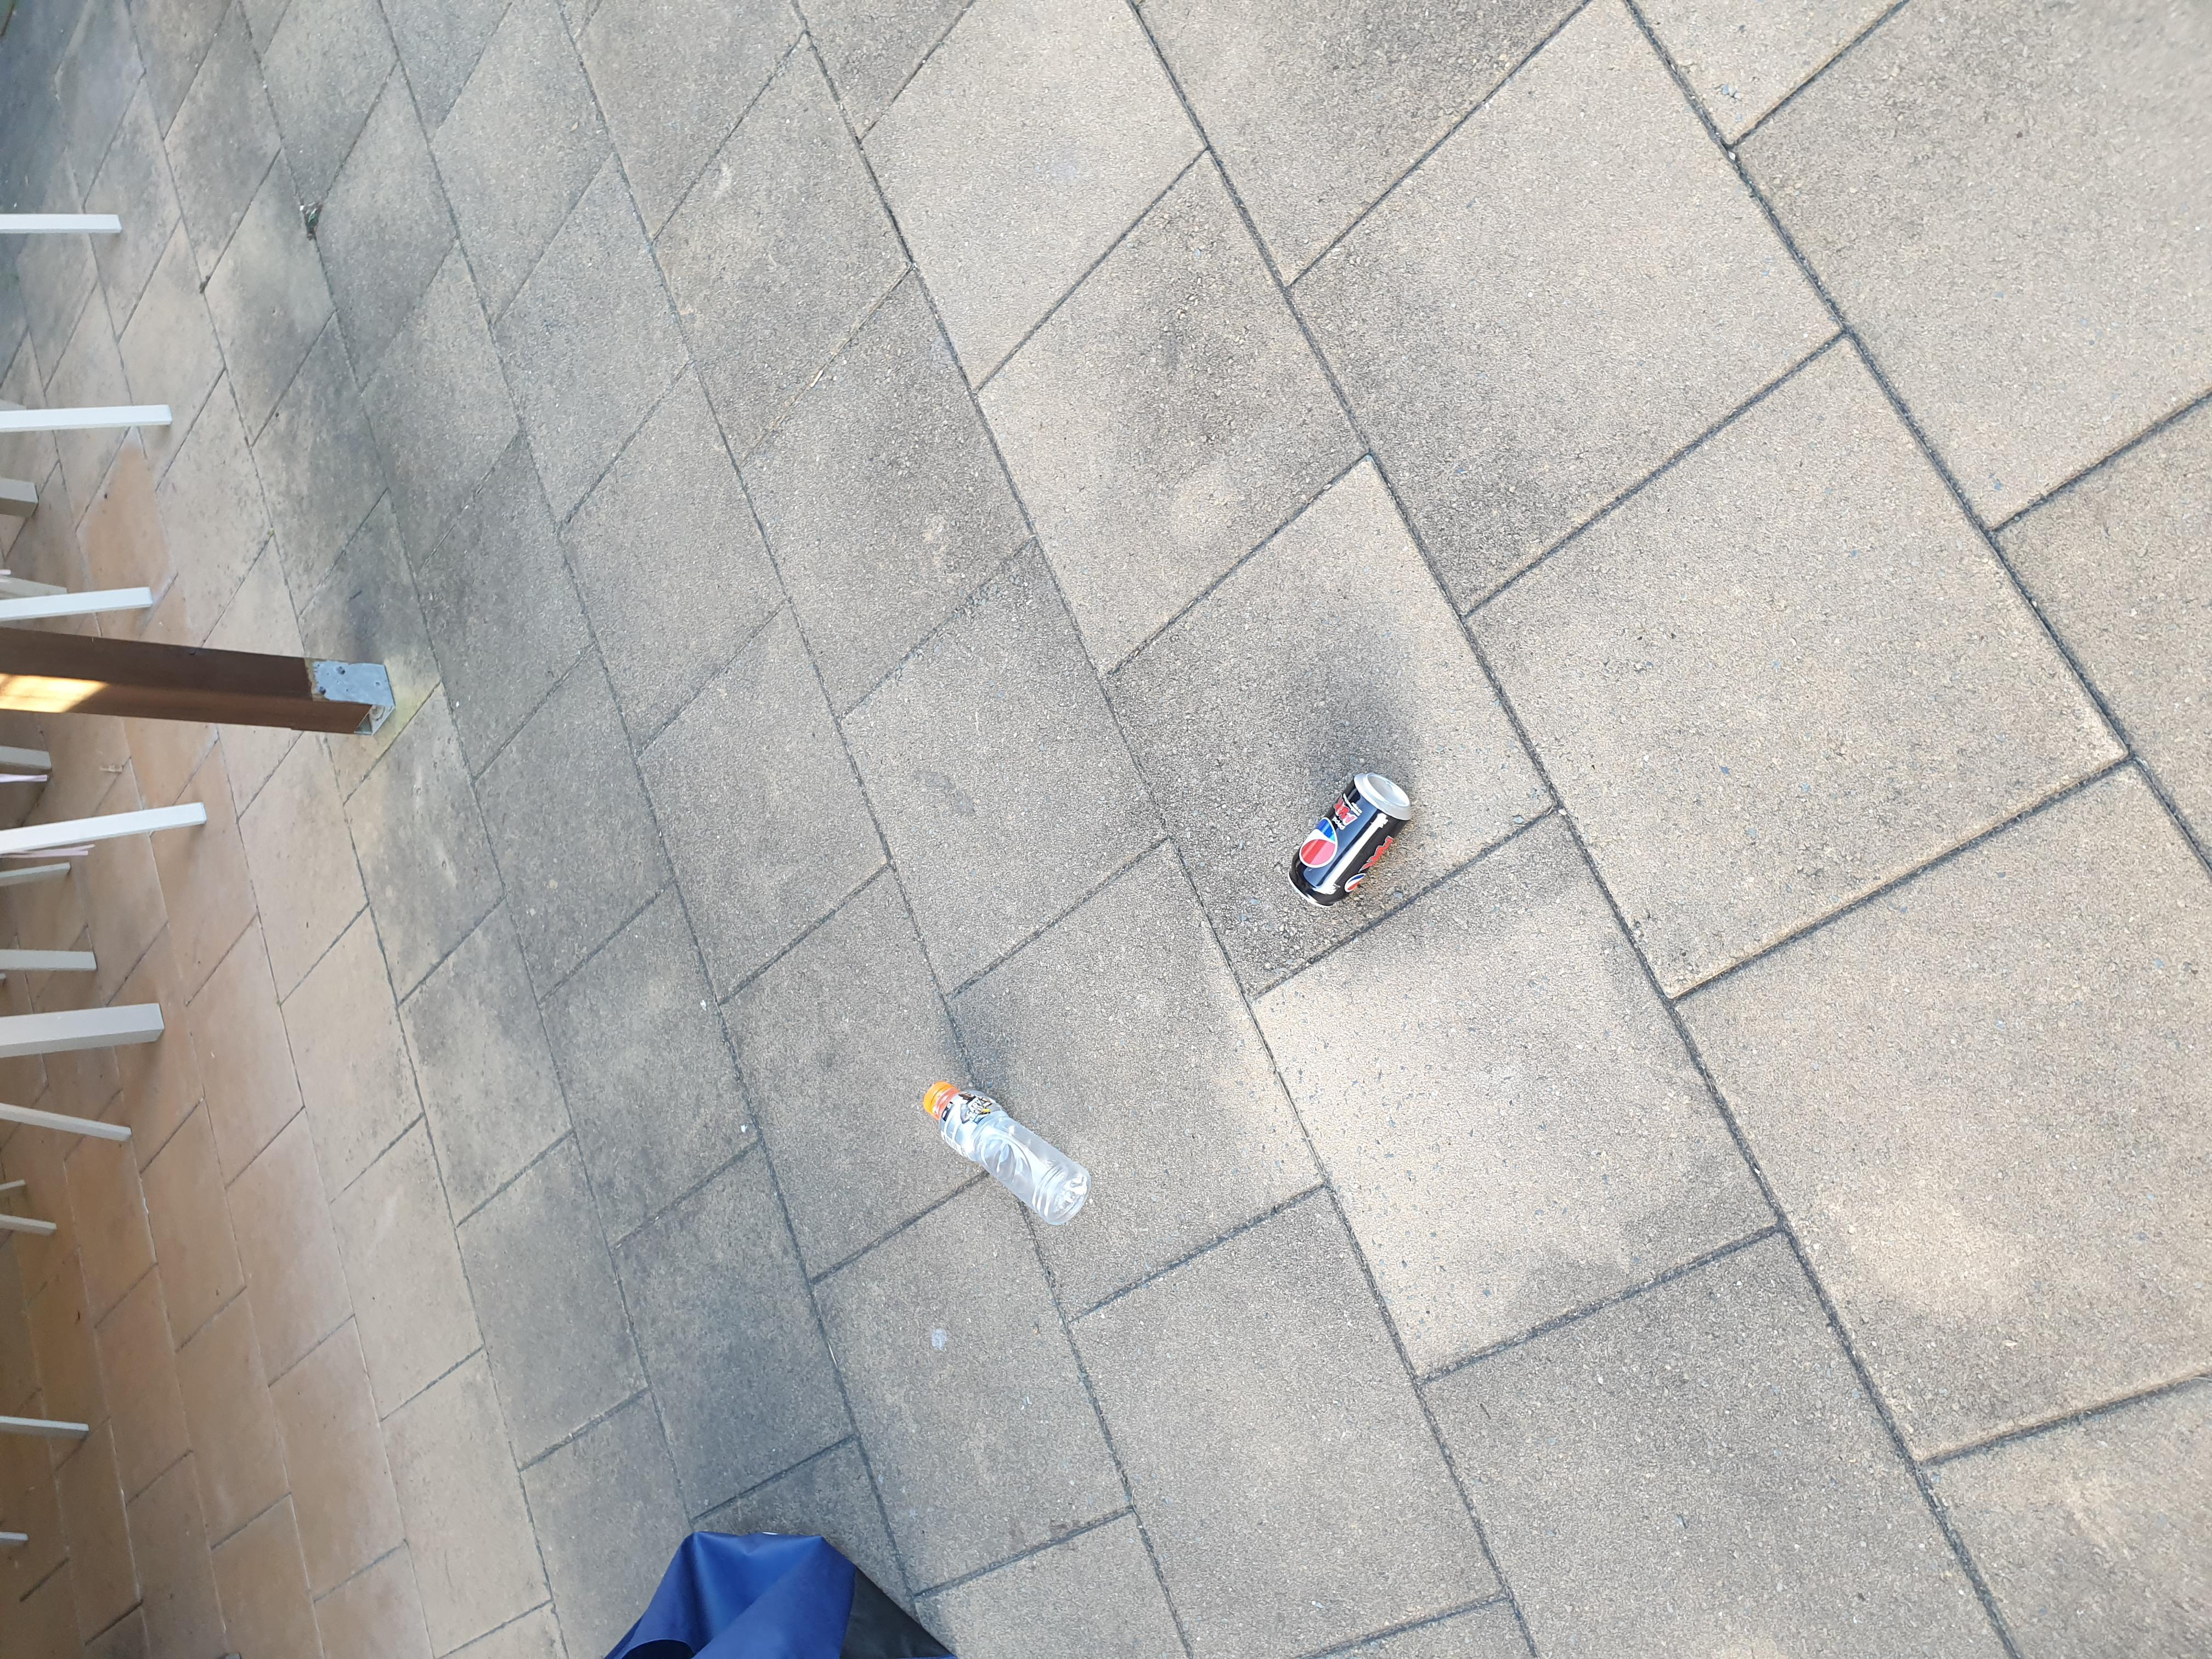Plastic Bottle: (923, 1080, 1094, 1225), (1289, 774, 1409, 908)
